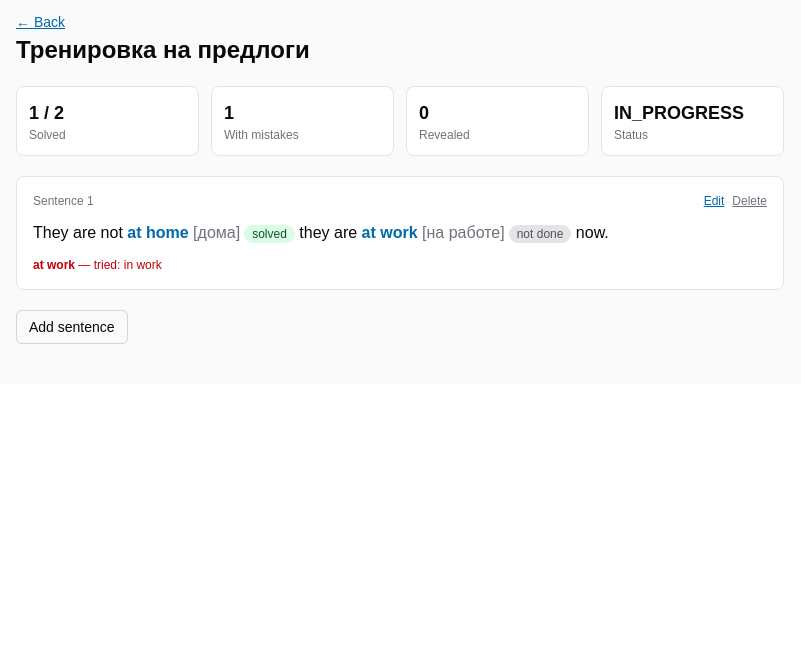
it: teacher drill progress — the sentences themselves › surfaces a failed save instead of pretending it worked
The image size is (801, 664).
Click the button with aria-label "edit sentence 1".
click(714, 201)  # box left=704, top=193, right=724, bottom=209
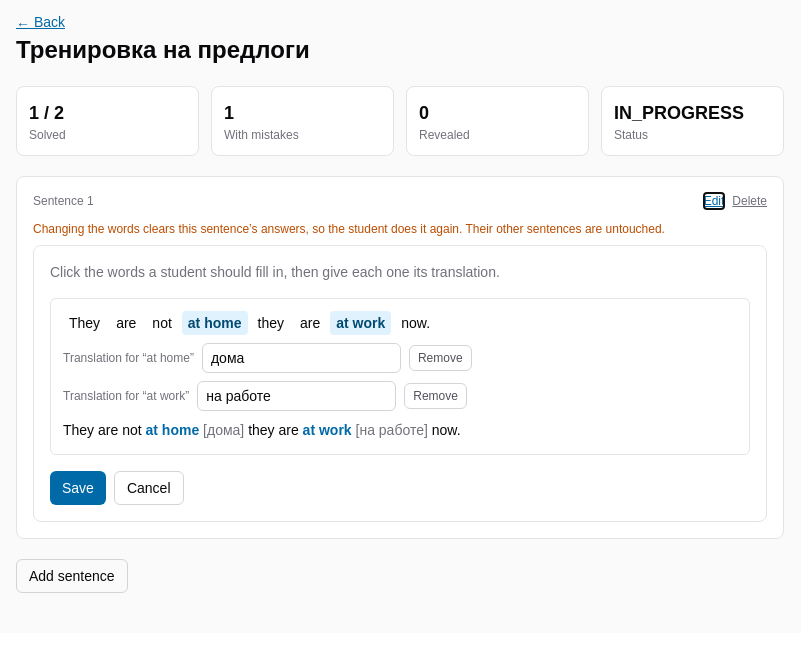
Click the button "Save".
click(78, 488)  # box left=50, top=471, right=106, bottom=505
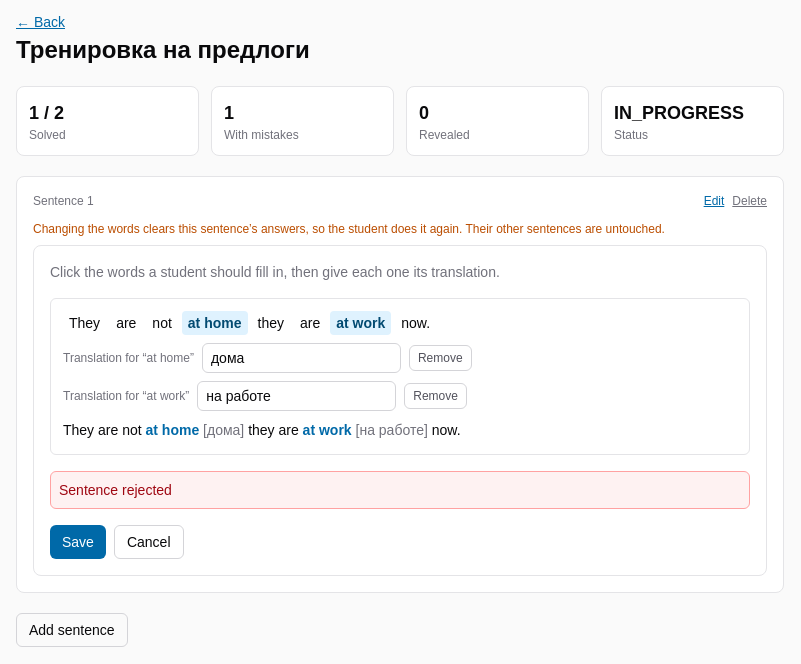
Expected: the message reads "Sentence rejected", left=59, top=482, right=172, bottom=498
